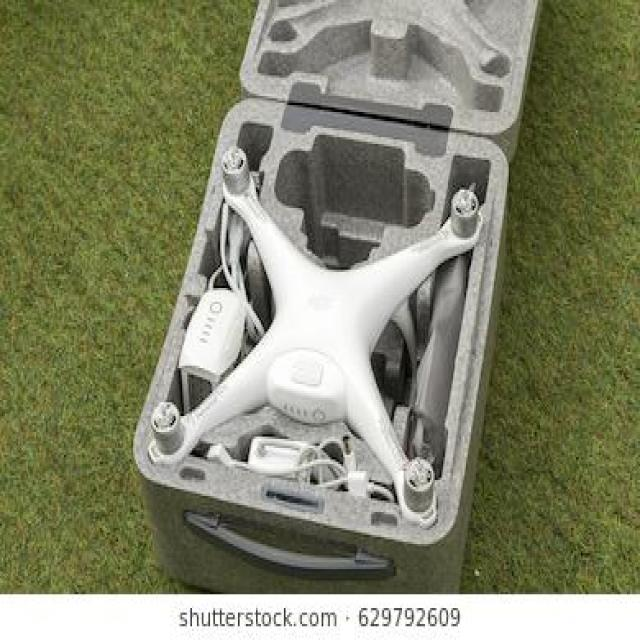drone: (135, 122, 502, 548)
